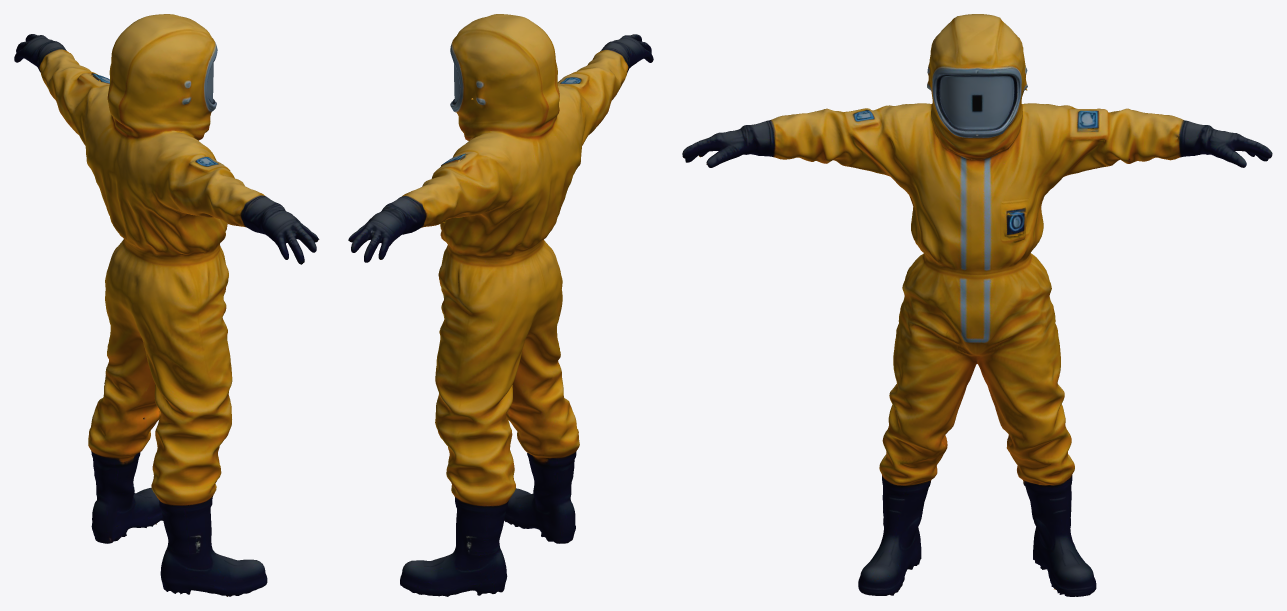
The model's file is Hazmat.fbx.
The picture shows the model from 3 angles, left to right: view 1: azimuth 30°, elevation 25°; view 2: azimuth 150°, elevation 25°; view 3: azimuth 270°, elevation 25°; orthographic projection. The views are drawn at different scales.
Parts seen in each view (by area): view 1: tripo_node_b8fcfdc0; view 2: tripo_node_b8fcfdc0; view 3: tripo_node_b8fcfdc0.
Boxes of the visible parts, bbox=[...] form: tripo_node_b8fcfdc0: bbox=[14, 14, 319, 596]; tripo_node_b8fcfdc0: bbox=[348, 14, 653, 596]; tripo_node_b8fcfdc0: bbox=[682, 14, 1272, 596].
Bounding box in the file's own units: 0.2078 × 0.9993 × 0.965.
